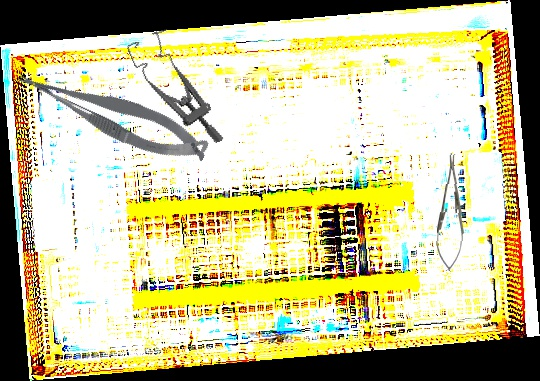Micro Scissor: (13, 46, 214, 181)
Needle Holder: (435, 153, 467, 272)
Speculum: (125, 23, 225, 161)
